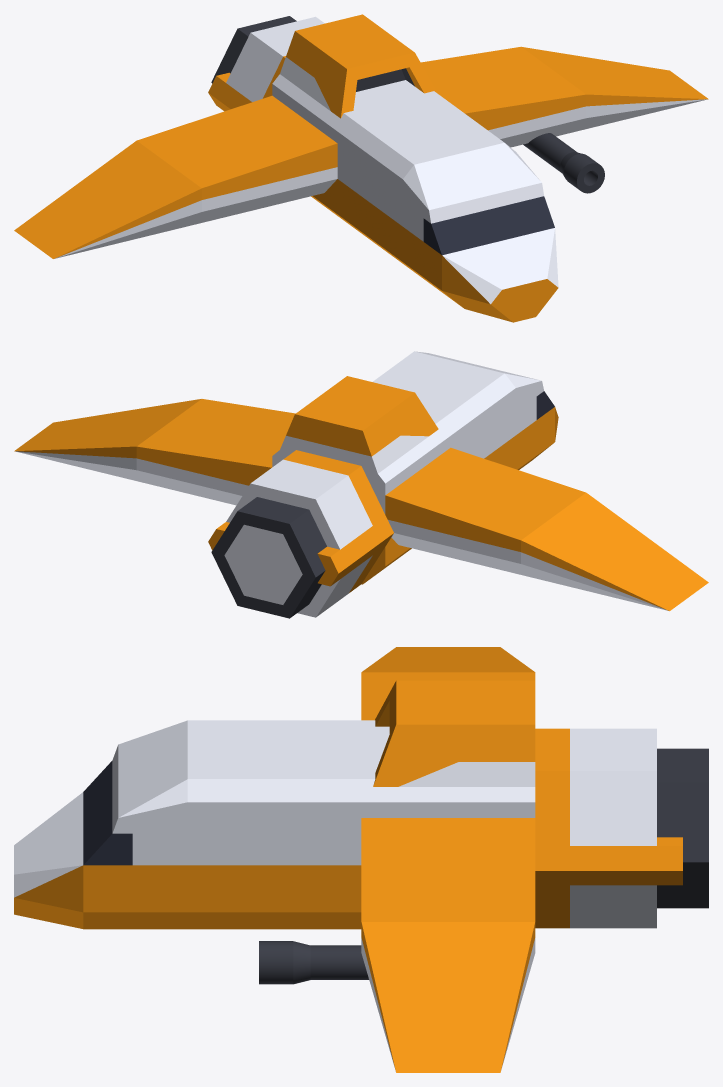
Rendered from harvesting_ship_default.obj.
The picture shows the model from 3 angles, top to bottom: view 1: azimuth 30°, elevation 25°; view 2: azimuth 150°, elevation 25°; view 3: azimuth 270°, elevation 25°; orthographic projection. The views are drawn at different scales.
Visible parts, largest first — view 1: mergedBlocks; view 2: mergedBlocks; view 3: mergedBlocks.
Boxes of the visible parts, bbox=[...] form: mergedBlocks: bbox=[14, 14, 708, 322]; mergedBlocks: bbox=[14, 351, 708, 618]; mergedBlocks: bbox=[14, 647, 708, 1072].
Bounding box in the file's own units: 5.8 × 1.3 × 4.
